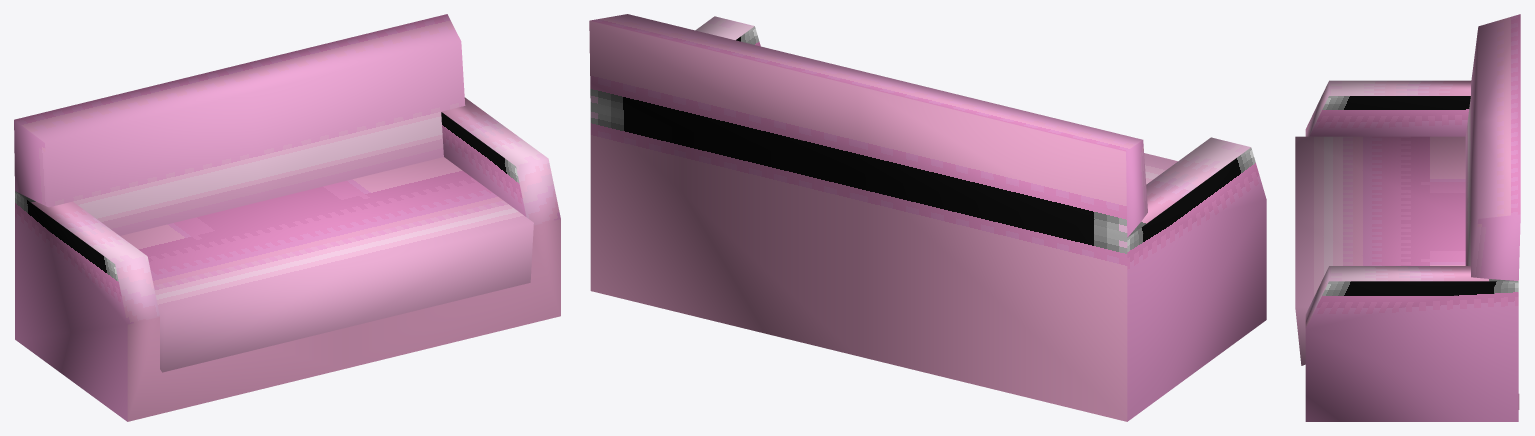
3 views of the same model, side by side, from view 1: azimuth 30°, elevation 25°; view 2: azimuth 150°, elevation 25°; view 3: azimuth 270°, elevation 25° (orthographic). The views are drawn at different scales.
Visible parts, largest first — view 1: 3231IMSD01_17; view 2: 3231IMSD01_17; view 3: 3231IMSD01_17.
Boxes of the visible parts, box(x1,y1,x2,y2) form: 3231IMSD01_17: box(14, 14, 560, 421); 3231IMSD01_17: box(589, 14, 1266, 421); 3231IMSD01_17: box(1295, 14, 1520, 421).
Size of the model in its own units: 1.89 by 0.9143 by 0.9001.
4 materials, 4 textured.
